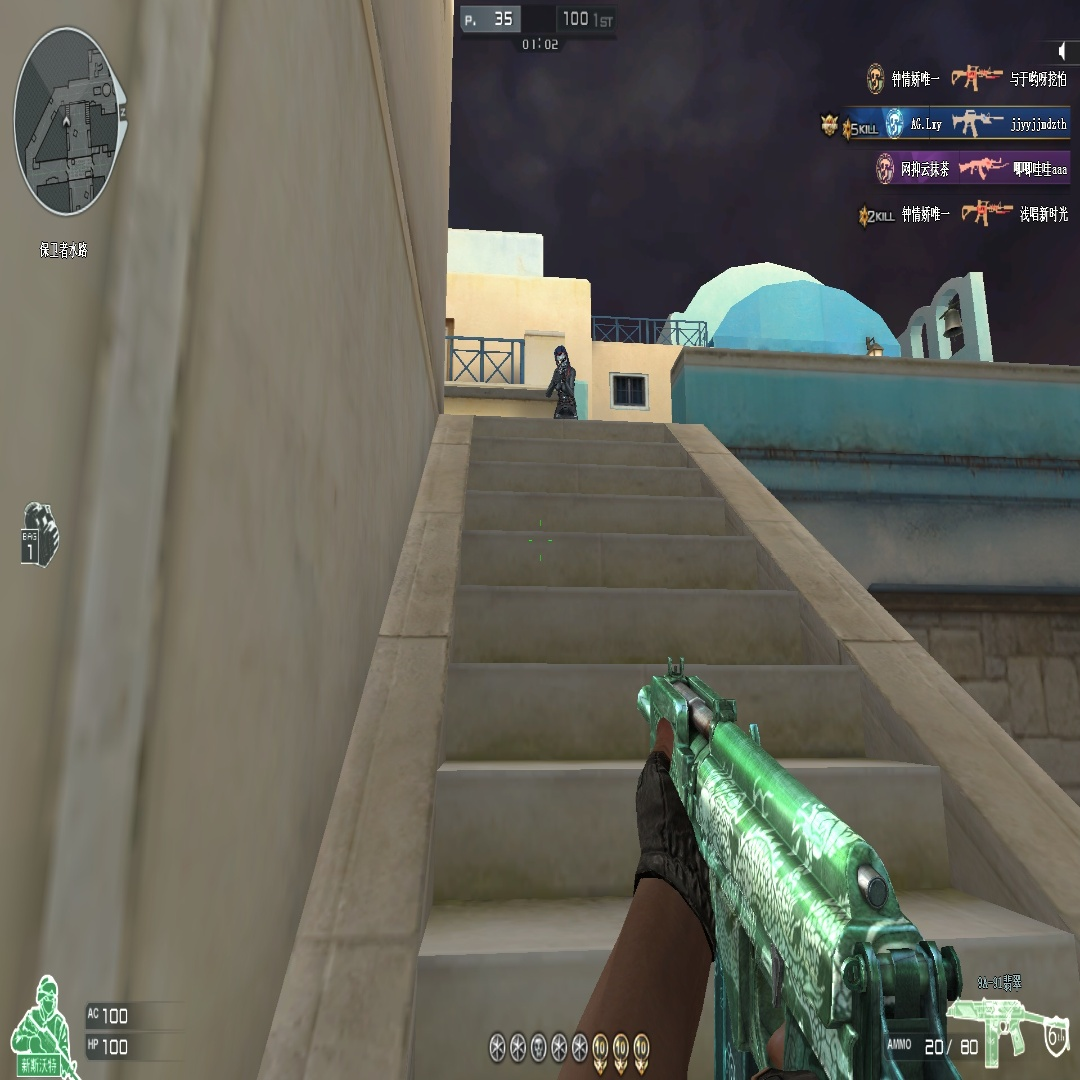p: (546, 341, 577, 411)
